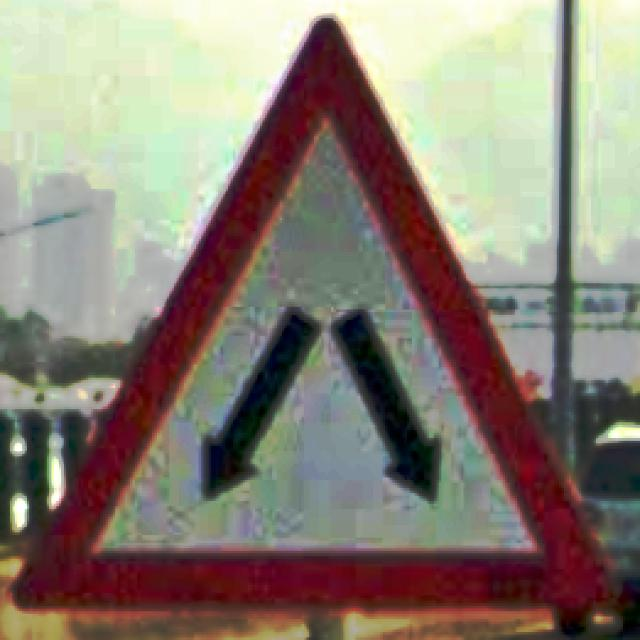diverge: (7, 13, 623, 630)
